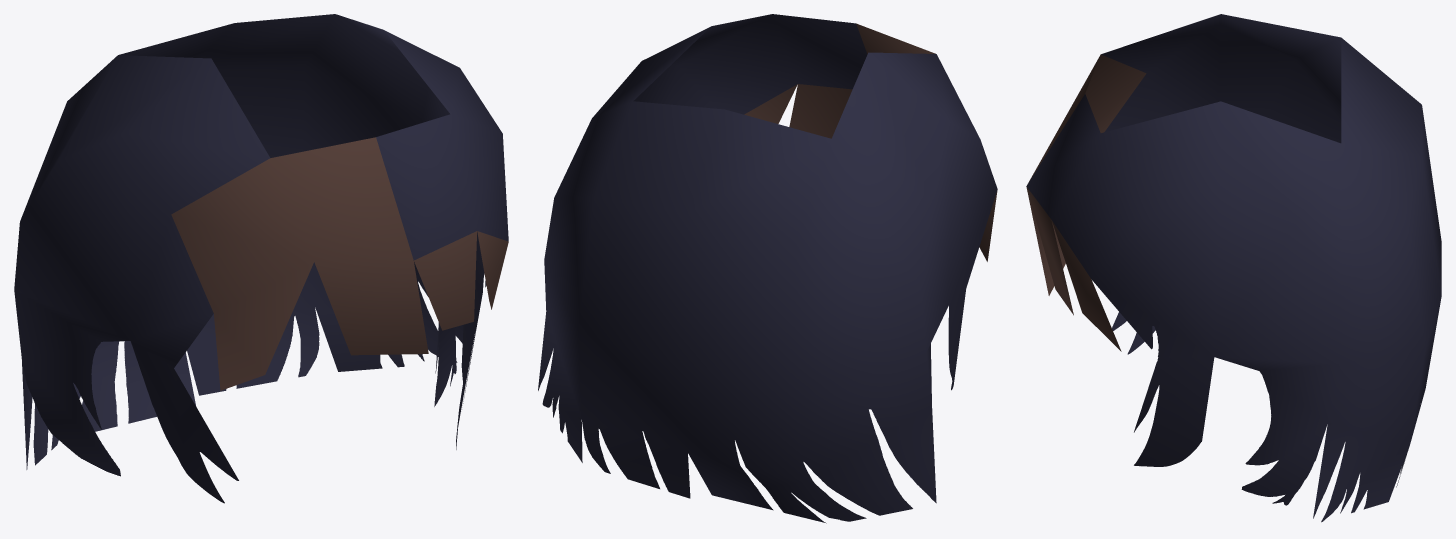
The model's file is hair inside.FBX.
3 views of the same model, side by side, from view 1: azimuth 30°, elevation 25°; view 2: azimuth 150°, elevation 25°; view 3: azimuth 270°, elevation 25° (orthographic). The views are drawn at different scales.
Visible parts, largest first — view 1: Sphere002; view 2: Sphere002; view 3: Sphere002.
Boxes of the visible parts, left/top/right/bottom form: Sphere002: left=14, top=14, right=508, bottom=503; Sphere002: left=538, top=14, right=997, bottom=523; Sphere002: left=1026, top=14, right=1441, bottom=522.
Size of the model in its own units: 64.33 by 60.57 by 58.15.
